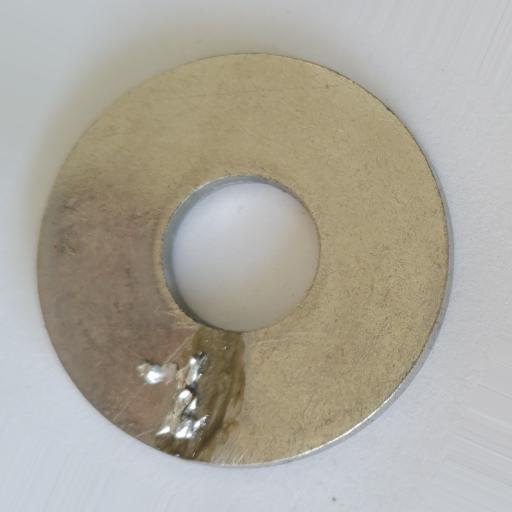excess_material: (136, 349, 210, 440)
